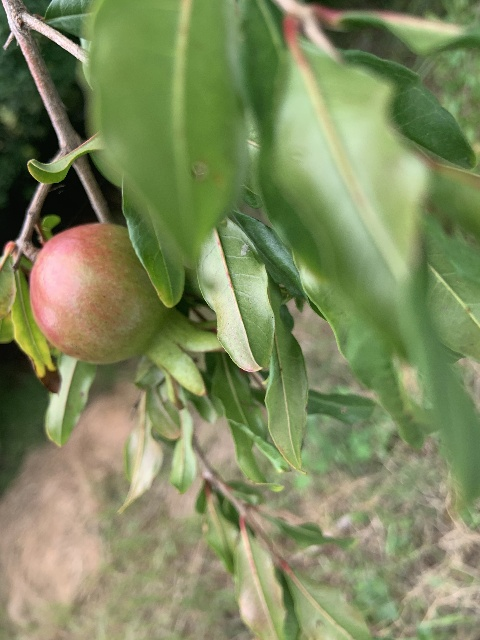early-fruit: (27, 222, 223, 410)
